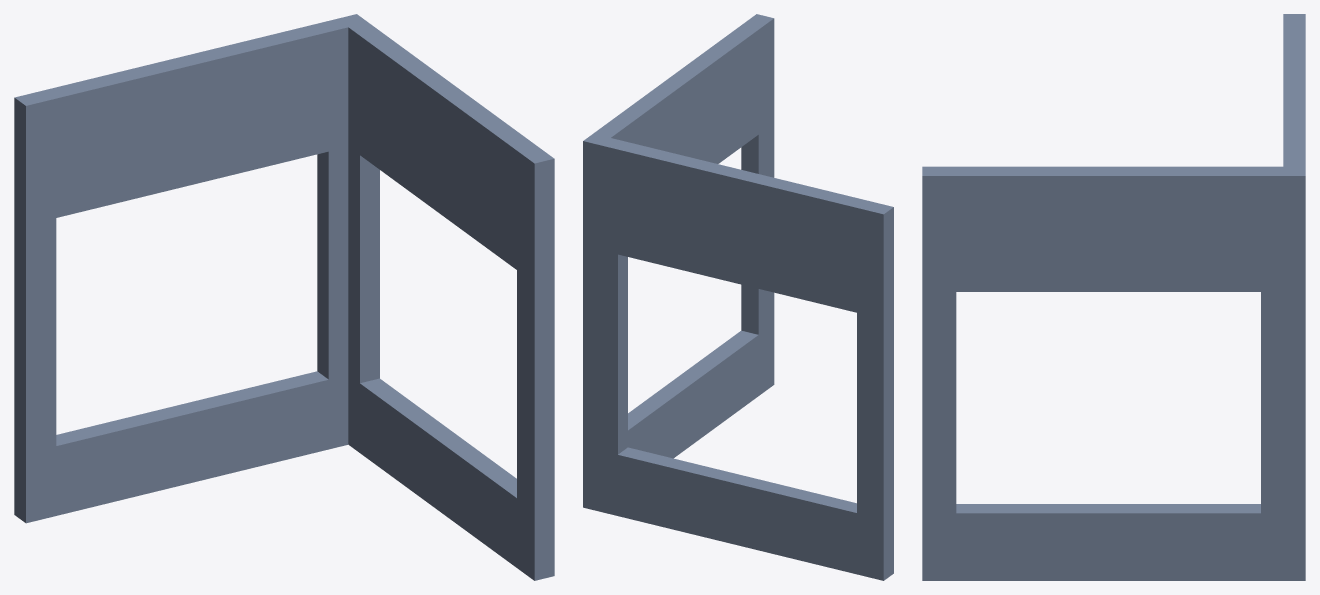
Rendered from Wall3_C1_15.fbx.
3 renders of one model, left to right at view 1: azimuth 30°, elevation 25°; view 2: azimuth 150°, elevation 25°; view 3: azimuth 270°, elevation 25°, orthographic. The views are drawn at different scales.
Visible parts, largest first — view 1: Wall3_C1_15; view 2: Wall3_C1_15; view 3: Wall3_C1_15.
Boxes of the visible parts, x1,y1,x2,y2 form: Wall3_C1_15: (14,14,554,580); Wall3_C1_15: (583,14,893,580); Wall3_C1_15: (922,14,1305,580).
Size of the model in its own units: 258 by 300 by 258.
